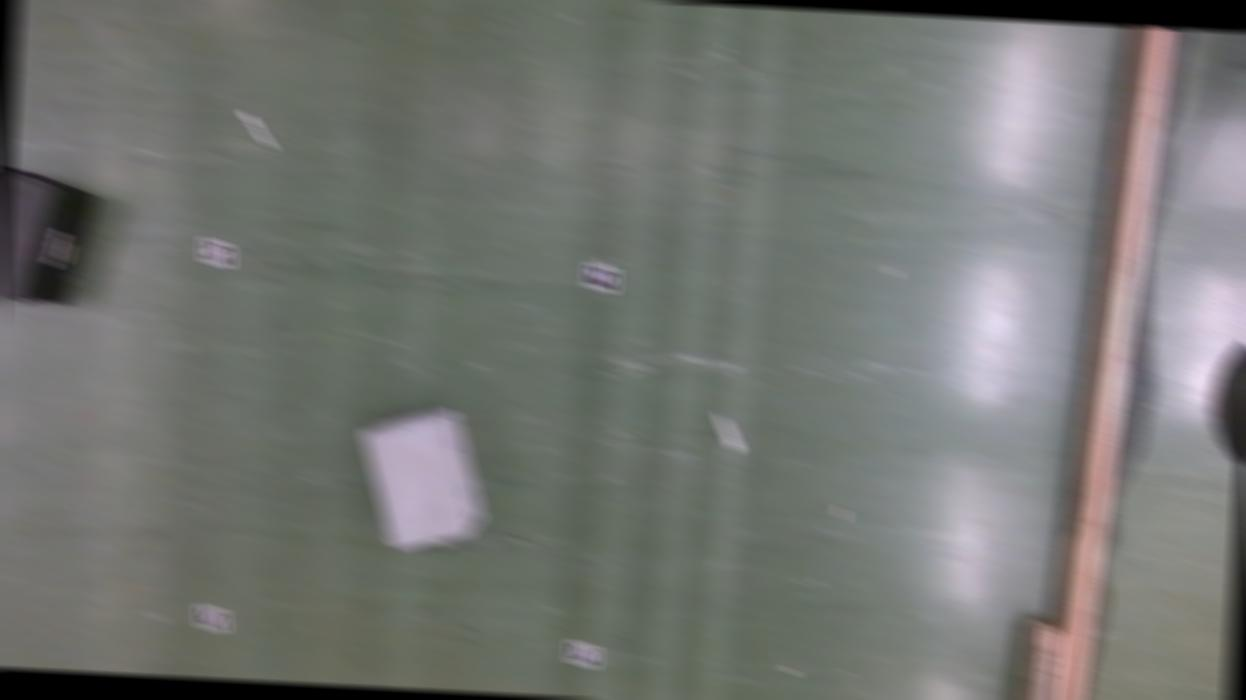probes: (241, 110, 275, 148), (715, 411, 742, 451)
rako: (354, 400, 490, 553), (0, 165, 101, 307)
